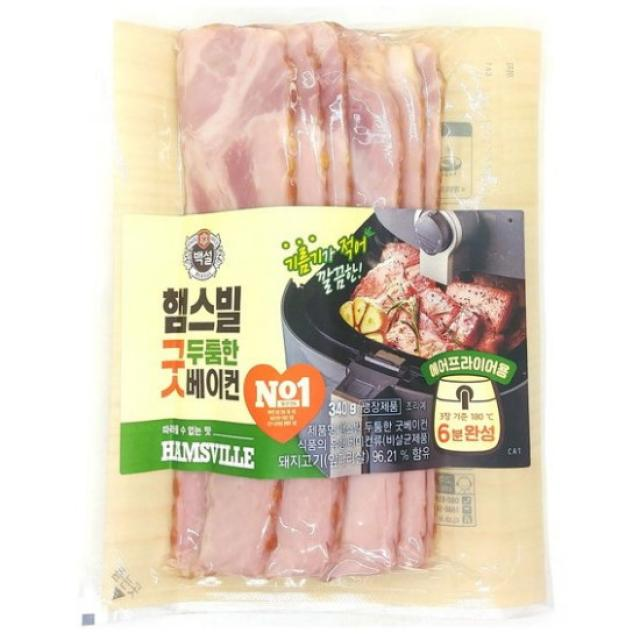bacon: (163, 14, 447, 210), (160, 471, 446, 582)
